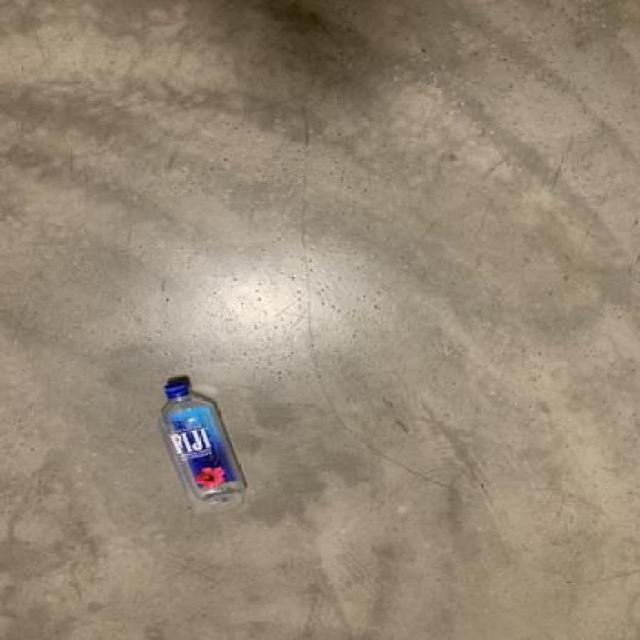trash: (159, 376, 255, 518)
